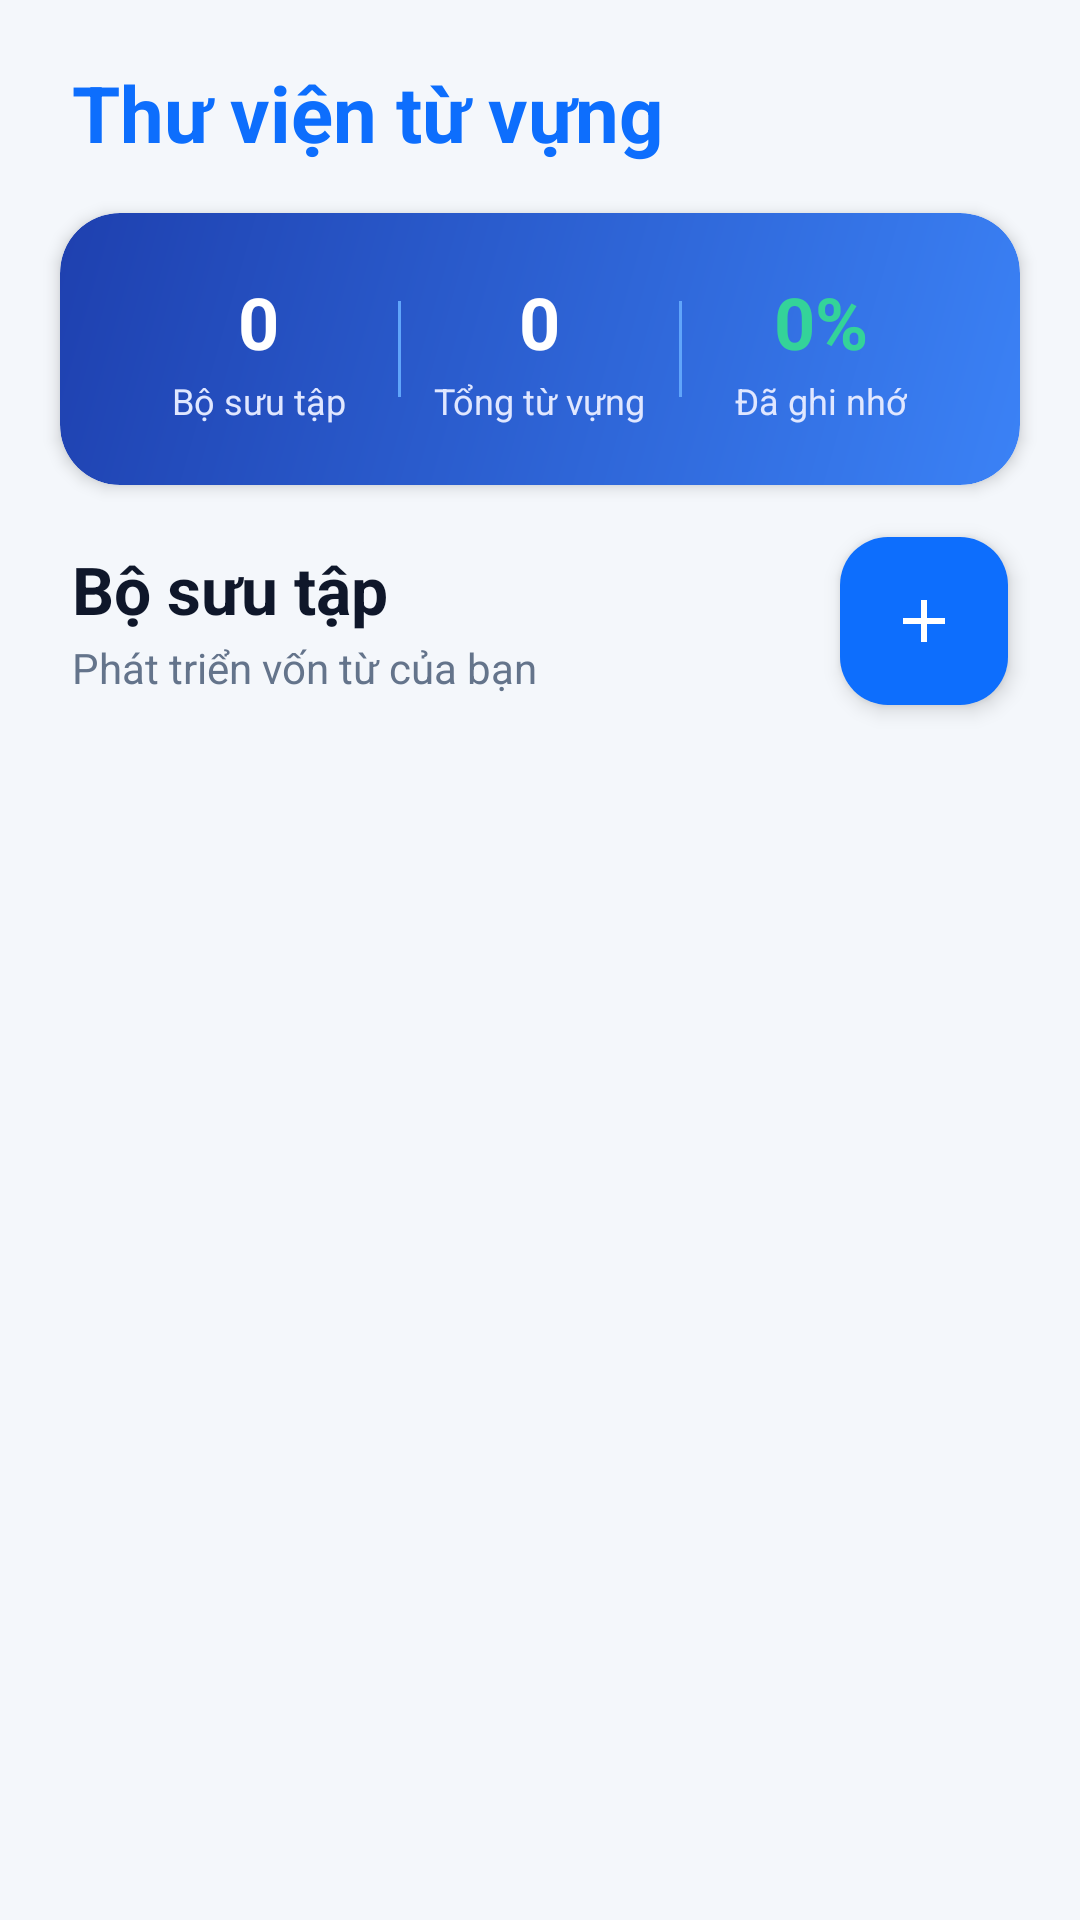

Icons on this 1080px x 1920px Android screen, each with its box as box=[x1, y1, x2, y2]:
Create Collection: box=[840, 537, 1008, 705]
